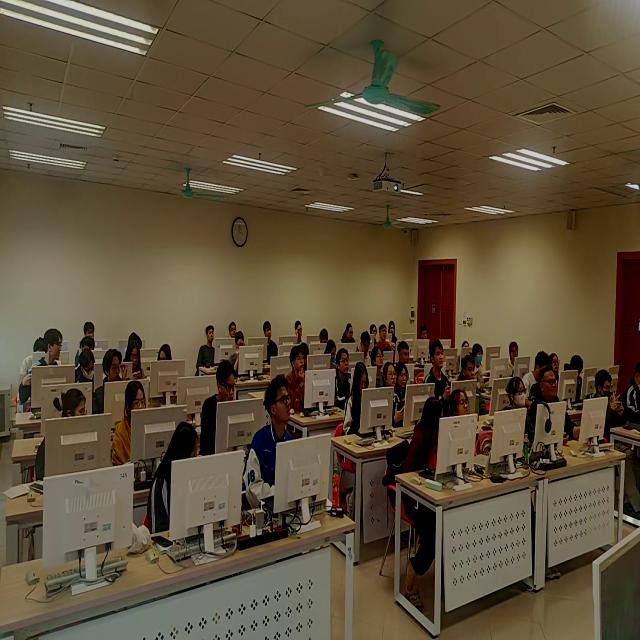raise_head: (252, 382, 319, 518), (204, 368, 246, 456), (534, 369, 577, 450), (501, 378, 535, 456), (288, 350, 319, 412), (98, 354, 128, 415), (452, 387, 478, 452), (426, 343, 452, 407), (197, 321, 227, 372), (459, 357, 486, 406), (383, 366, 403, 426), (336, 354, 354, 411), (504, 343, 530, 378), (260, 324, 282, 364), (397, 360, 415, 404), (79, 321, 103, 349), (471, 344, 488, 378), (417, 327, 432, 355), (379, 328, 393, 354), (293, 320, 306, 347), (229, 320, 239, 340)
using_computer: (158, 432, 221, 548), (115, 386, 157, 469), (347, 366, 379, 442), (151, 346, 183, 396), (231, 335, 258, 384), (76, 353, 103, 399), (566, 358, 589, 406), (359, 335, 373, 368)
using_phone: (591, 377, 629, 451), (126, 344, 148, 388)
